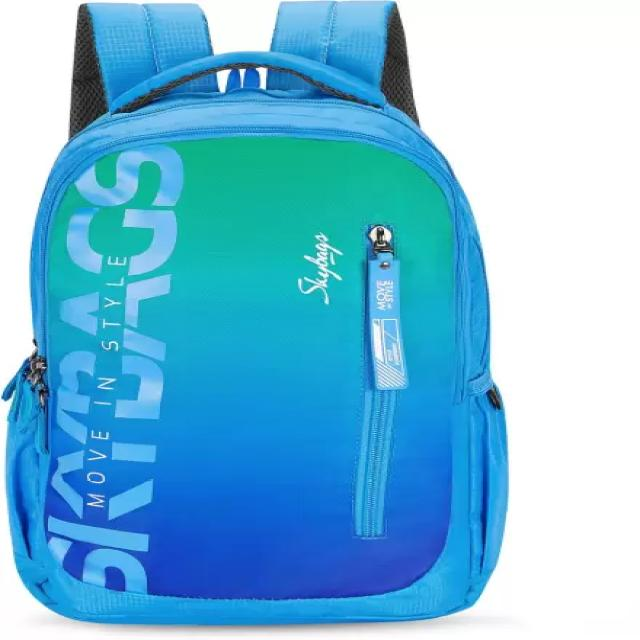backpack: (2, 1, 510, 626)
